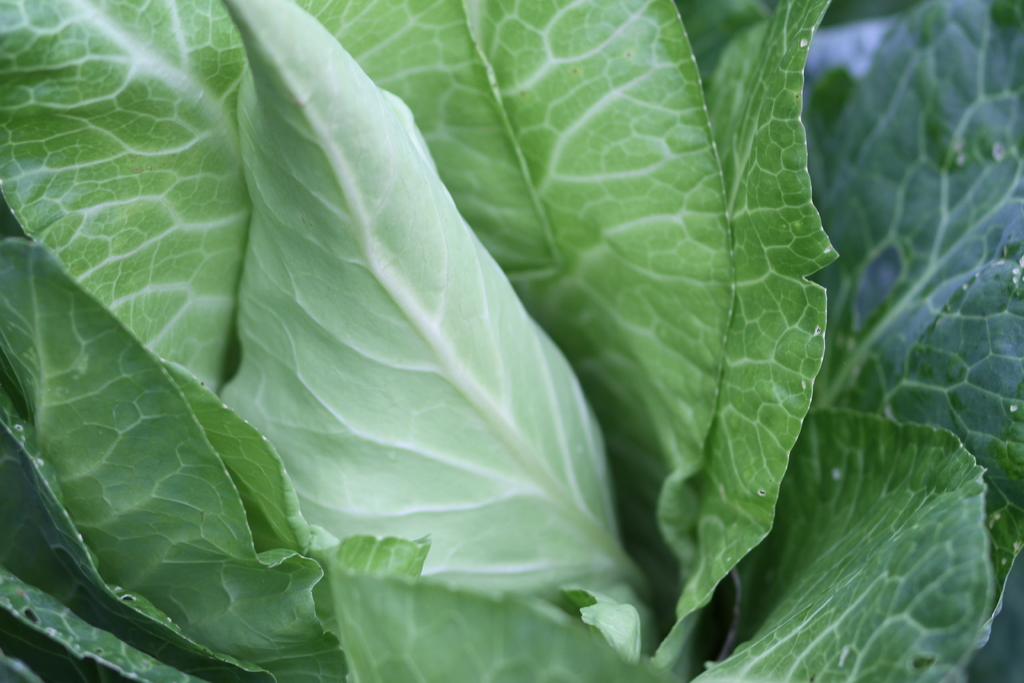Cabbage: (0, 0, 1023, 681)
